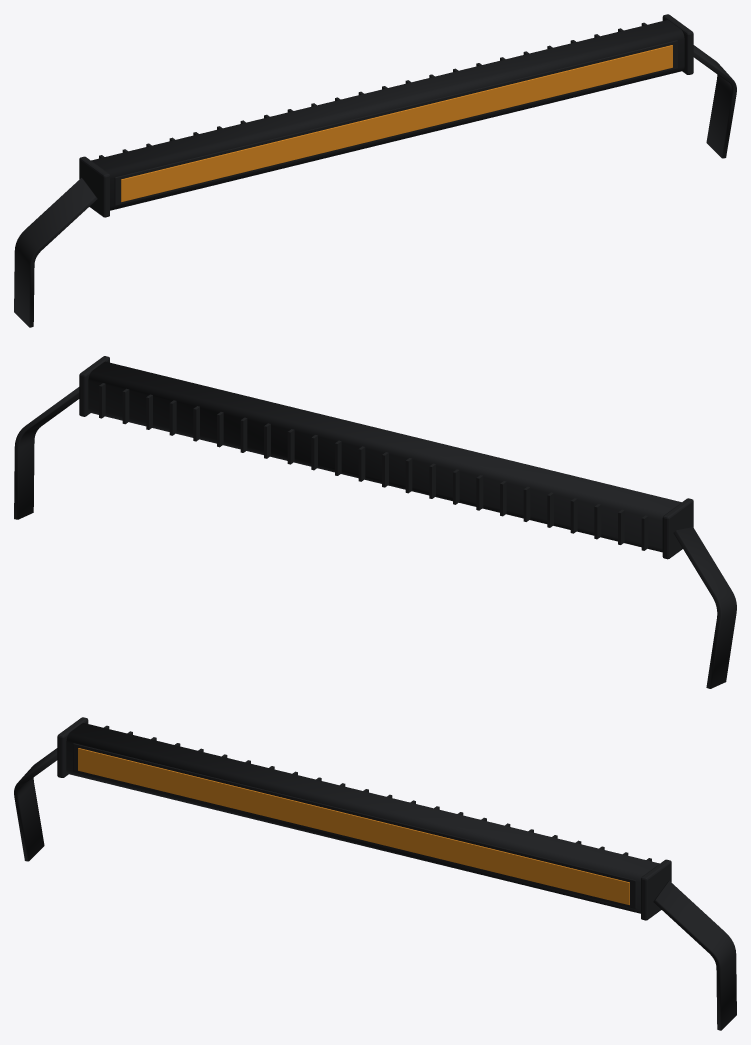
Rendered from lightBar_stedi_st2k.glb.
3 renders of one model, top to bottom at view 1: azimuth 30°, elevation 25°; view 2: azimuth 150°, elevation 25°; view 3: azimuth 330°, elevation 25°, orthographic.
Visible parts, largest first — view 1: housing.008, lens.008, bezel.008, bracket-1.003, bracket1.003, endCap-1.009, endCap1.009; view 2: housing.008, bracket-1.003, bracket1.003, endCap-1.009, endCap1.009; view 3: housing.008, lens.008, bezel.008, bracket1.003, bracket-1.003, endCap1.009, endCap-1.009.
Boxes of the visible parts, <box> form: housing.008: <box>91,20,684,210</box>; lens.008: <box>121,45,672,202</box>; bezel.008: <box>114,40,677,205</box>; bracket-1.003: <box>14,178,97,327</box>; bracket1.003: <box>693,45,736,158</box>; endCap-1.009: <box>79,156,109,217</box>; endCap1.009: <box>662,14,693,74</box>; housing.008: <box>88,361,681,552</box>; bracket-1.003: <box>673,527,736,688</box>; bracket1.003: <box>14,387,79,519</box>; endCap-1.009: <box>662,498,693,559</box>; endCap1.009: <box>79,356,109,416</box>; housing.008: <box>66,723,659,913</box>; lens.008: <box>78,748,629,905</box>; bezel.008: <box>73,743,636,908</box>; bracket1.003: <box>653,881,736,1030</box>; bracket-1.003: <box>14,748,57,861</box>; endCap1.009: <box>641,859,671,920</box>; endCap-1.009: <box>57,717,88,777</box>.
Size of the model in its own units: 1.25 by 0.26 by 0.1137.
